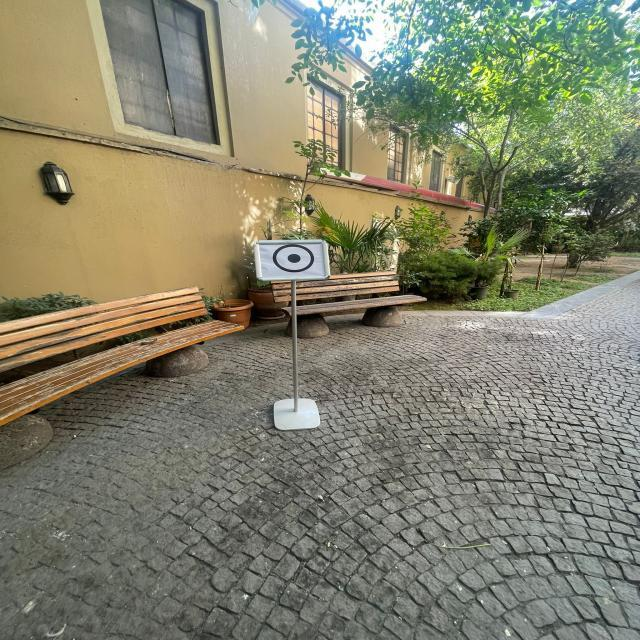Target: (250, 232, 335, 285)
inner: (284, 250, 305, 266)
